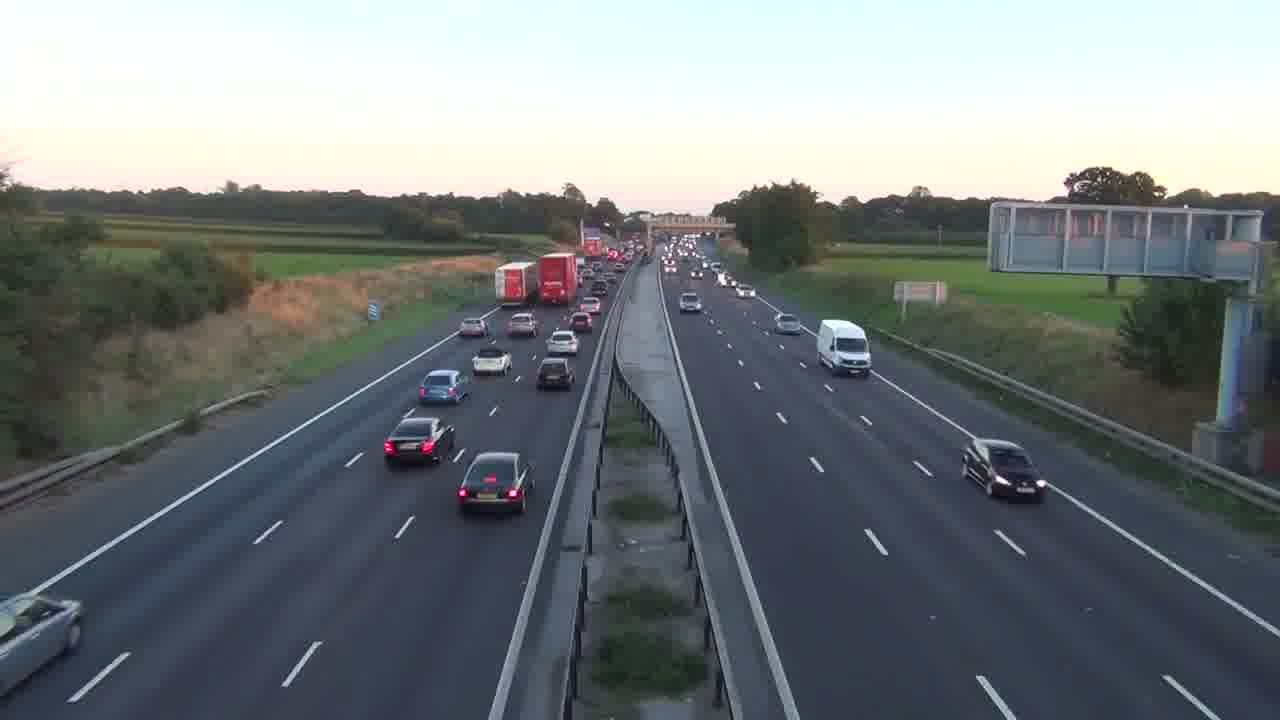car: (0, 588, 84, 697), (960, 436, 1048, 503), (455, 451, 535, 516), (417, 368, 470, 404), (536, 358, 574, 390), (471, 347, 512, 376), (507, 311, 538, 338), (678, 290, 703, 313)
